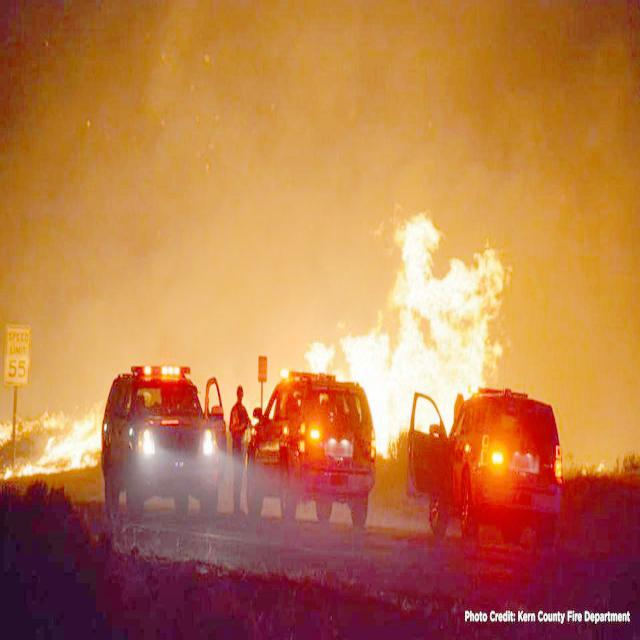api: (302, 169, 514, 483), (1, 396, 111, 481)
